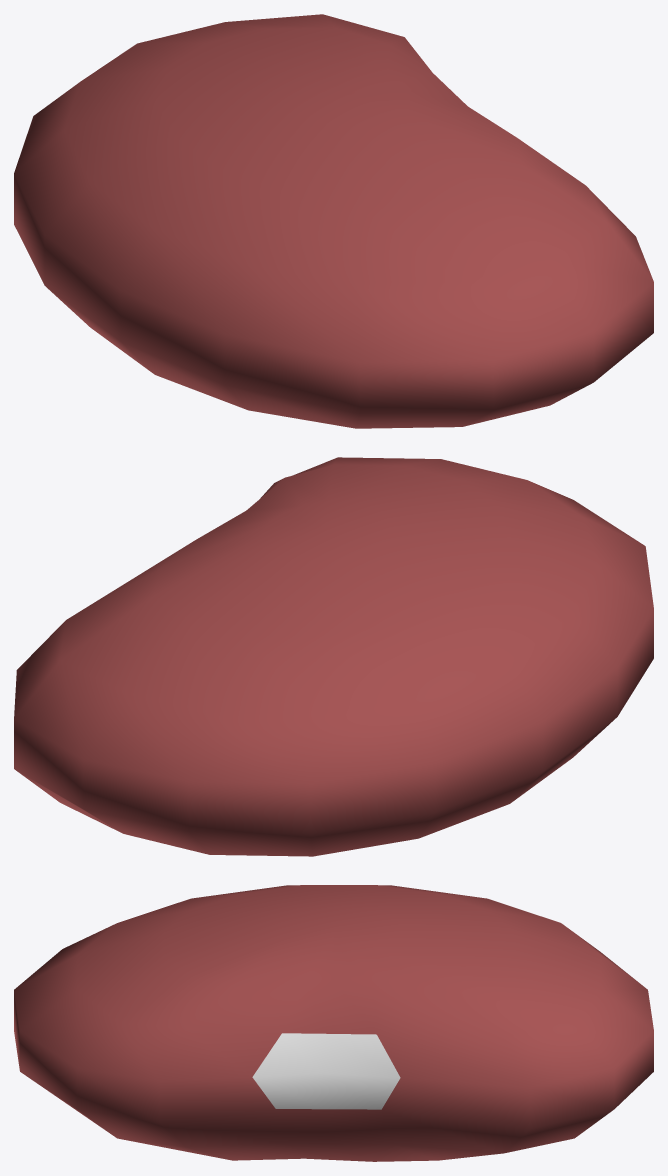
File: Frijol_0.glb
3 renders of one model, top to bottom at view 1: azimuth 30°, elevation 25°; view 2: azimuth 150°, elevation 25°; view 3: azimuth 270°, elevation 25°, orthographic. The views are drawn at different scales.
Visible parts, largest first — view 1: Frijol_etapa_1; view 2: Frijol_etapa_1; view 3: Frijol_etapa_1.
Part boxes in pixels (left/top/right/bottom): Frijol_etapa_1: left=14, top=14, right=653, bottom=428; Frijol_etapa_1: left=14, top=457, right=653, bottom=856; Frijol_etapa_1: left=14, top=885, right=653, bottom=1161.
Size of the model in its own units: 0.3326 by 0.1818 by 0.5004.
